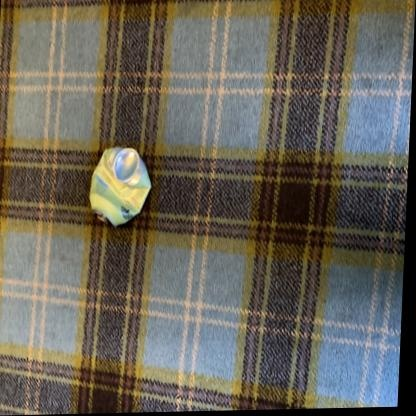trash: (90, 147, 150, 225)
